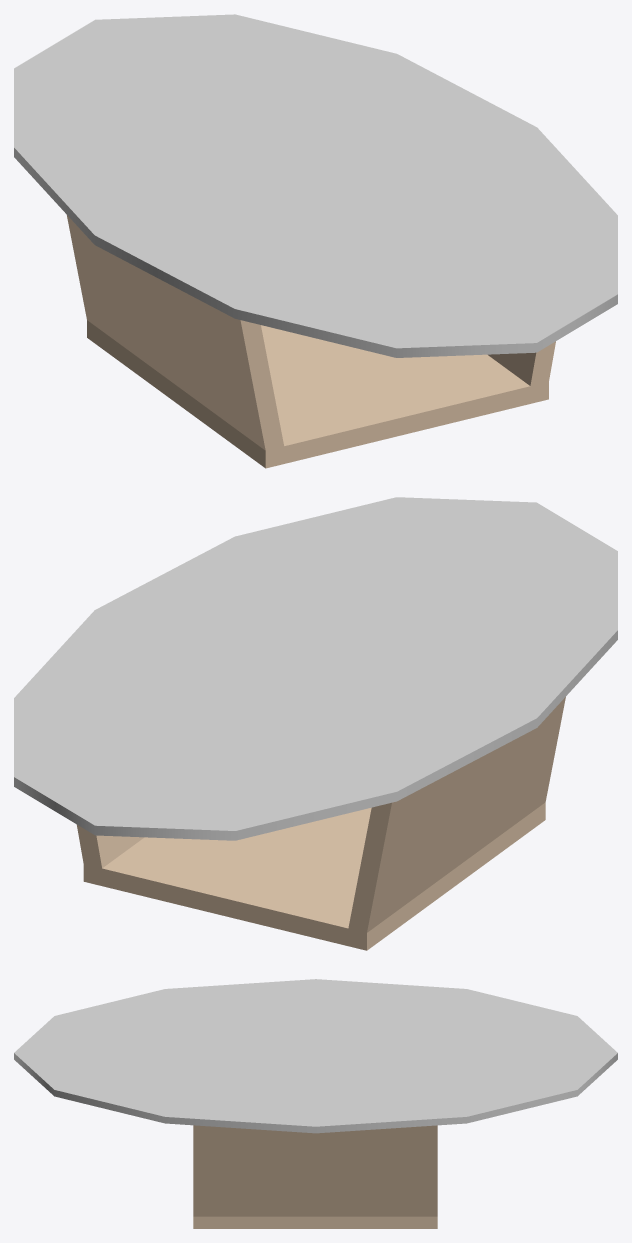
Rendered from Zen_LivingroomCTable.FBX.
3 renders of one model, top to bottom at view 1: azimuth 30°, elevation 25°; view 2: azimuth 150°, elevation 25°; view 3: azimuth 270°, elevation 25°, orthographic. The views are drawn at different scales.
Parts seen in each view (by area): view 1: Zen_LivingGlasstable; view 2: Zen_LivingGlasstable; view 3: Zen_LivingGlasstable.
Part boxes in pixels (bbox=[...]): Zen_LivingGlasstable: bbox=[14, 14, 617, 468]; Zen_LivingGlasstable: bbox=[14, 497, 617, 950]; Zen_LivingGlasstable: bbox=[14, 979, 617, 1228].
Size of the model in its own units: 40.7 by 16.47 by 70.36.
